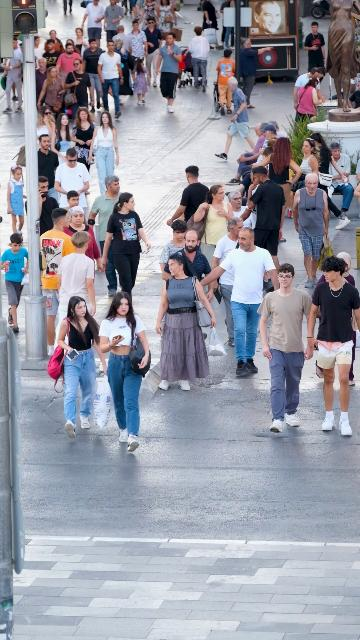person: (199, 226, 280, 378), (257, 263, 316, 433), (306, 255, 360, 437), (98, 291, 152, 453), (154, 254, 217, 392), (56, 295, 108, 438), (240, 165, 287, 292), (39, 207, 78, 358), (101, 193, 153, 305), (252, 136, 303, 242), (210, 216, 244, 347), (292, 174, 330, 290), (55, 231, 98, 331), (88, 174, 122, 297), (315, 292, 358, 389), (162, 230, 215, 302), (193, 185, 237, 267), (214, 76, 256, 161), (167, 166, 210, 247), (225, 122, 278, 186), (0, 233, 29, 334), (62, 206, 104, 274), (88, 111, 119, 197), (238, 39, 275, 110), (54, 148, 92, 215), (290, 138, 322, 209), (309, 132, 348, 190), (97, 40, 124, 119), (157, 32, 182, 114), (240, 140, 276, 196), (63, 58, 94, 122), (158, 219, 189, 282), (82, 38, 106, 113), (69, 106, 96, 171), (224, 191, 257, 242), (2, 35, 23, 114), (37, 66, 66, 121), (316, 251, 357, 289), (188, 26, 211, 92), (6, 165, 25, 240), (293, 67, 325, 111), (37, 177, 60, 238), (142, 19, 162, 88), (248, 147, 274, 200), (295, 78, 325, 123), (303, 21, 326, 79), (216, 49, 236, 115), (81, 0, 106, 50), (37, 133, 59, 186), (114, 48, 134, 106), (56, 42, 82, 84), (52, 113, 74, 160), (130, 58, 151, 106), (216, 0, 236, 49), (127, 21, 148, 67), (201, 0, 219, 51), (103, 0, 124, 42), (112, 24, 133, 66), (37, 105, 57, 144), (35, 58, 49, 110), (246, 123, 266, 154), (42, 38, 60, 70), (73, 28, 89, 60), (46, 30, 65, 53), (269, 121, 288, 143), (66, 190, 79, 211), (34, 36, 44, 62), (122, 0, 131, 15)
